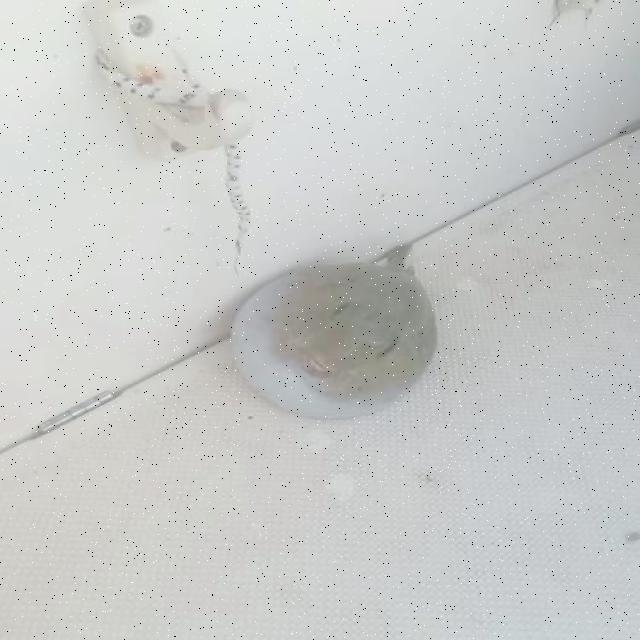Balik: (233, 248, 436, 418)
